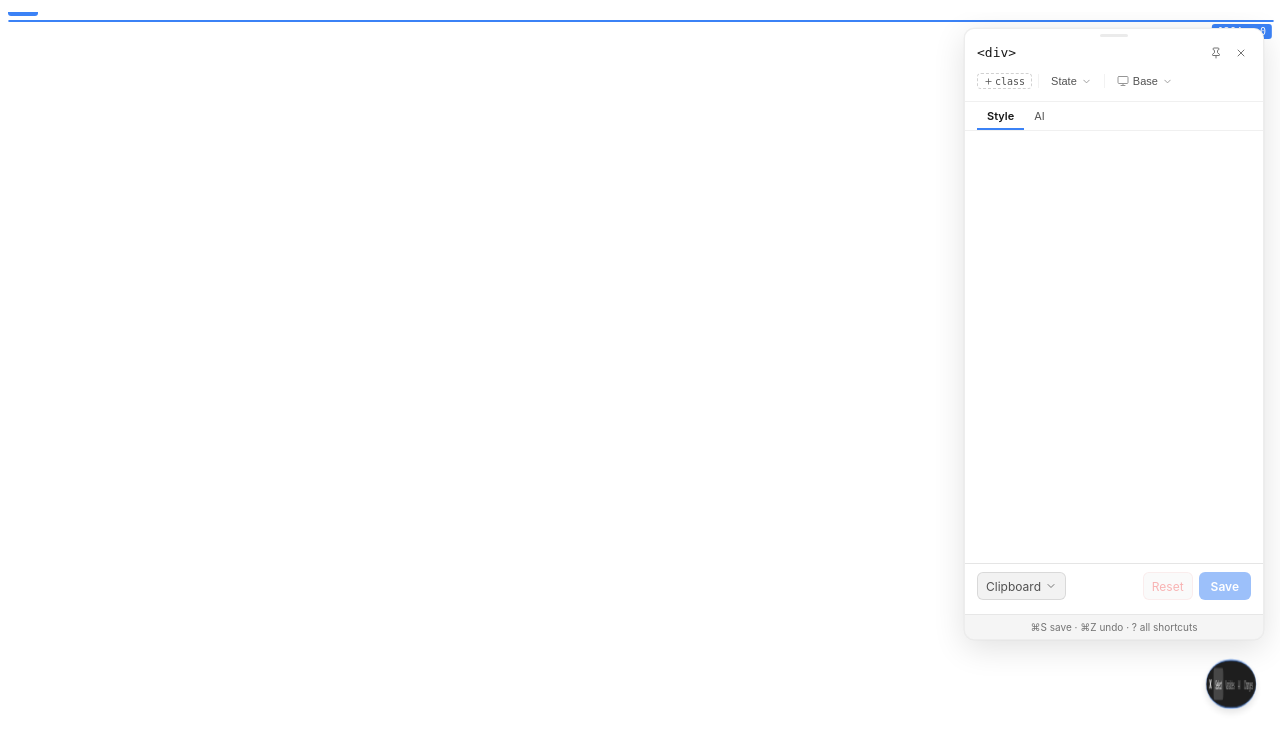
Scenario: class creation UI (audit 05-class-creation) › rejects an invalid CSS identifier with a visible error and no attach
Click the button with aria-label "Add class": (1005, 81) [977,73,1032,89]
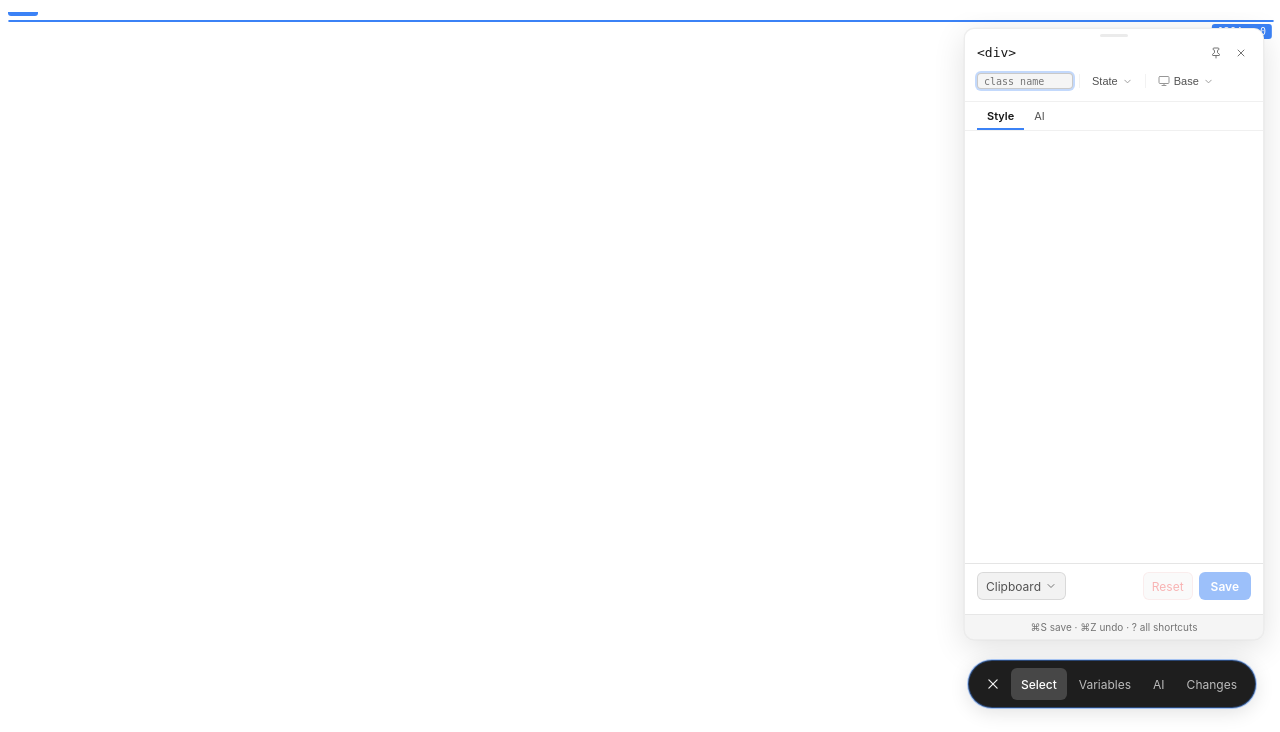
Now the field named "New class name" is shown
In the field named "New class name": (1025, 81) [977,73,1073,89], type "1bad"
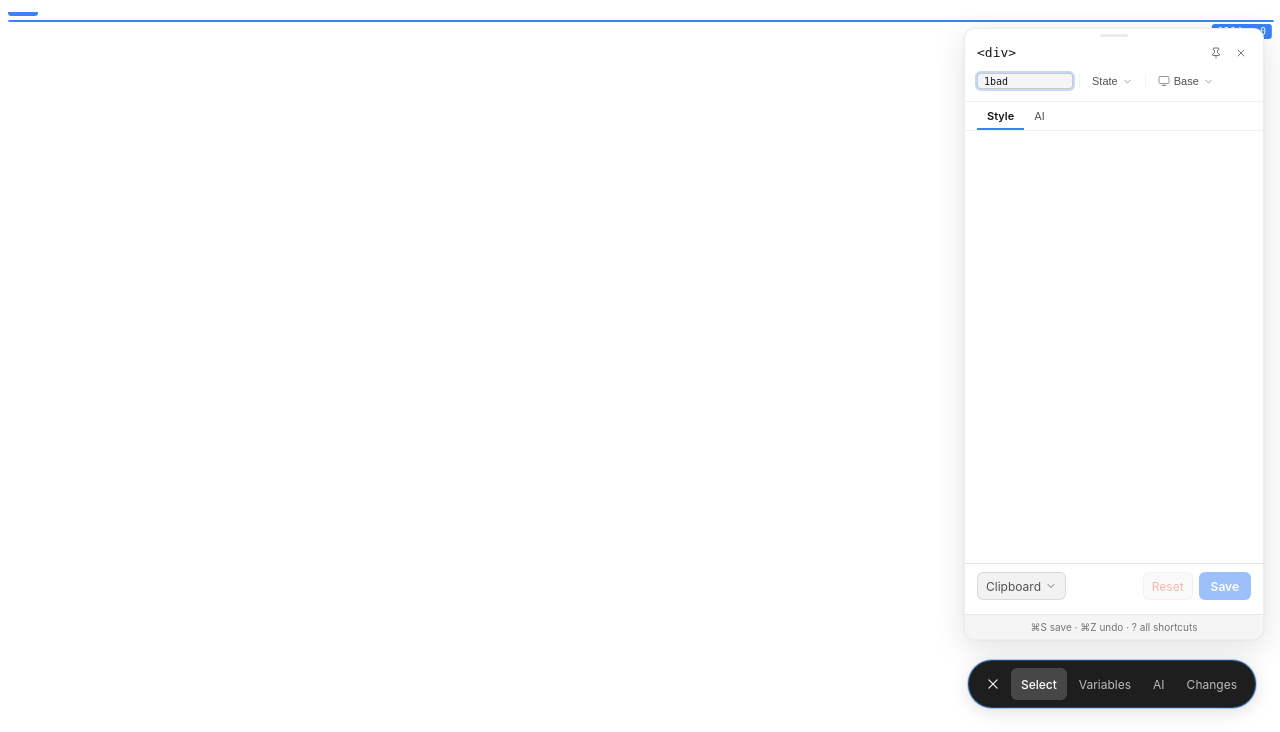
Press Enter in the field named "New class name", box [977,73,1073,89]
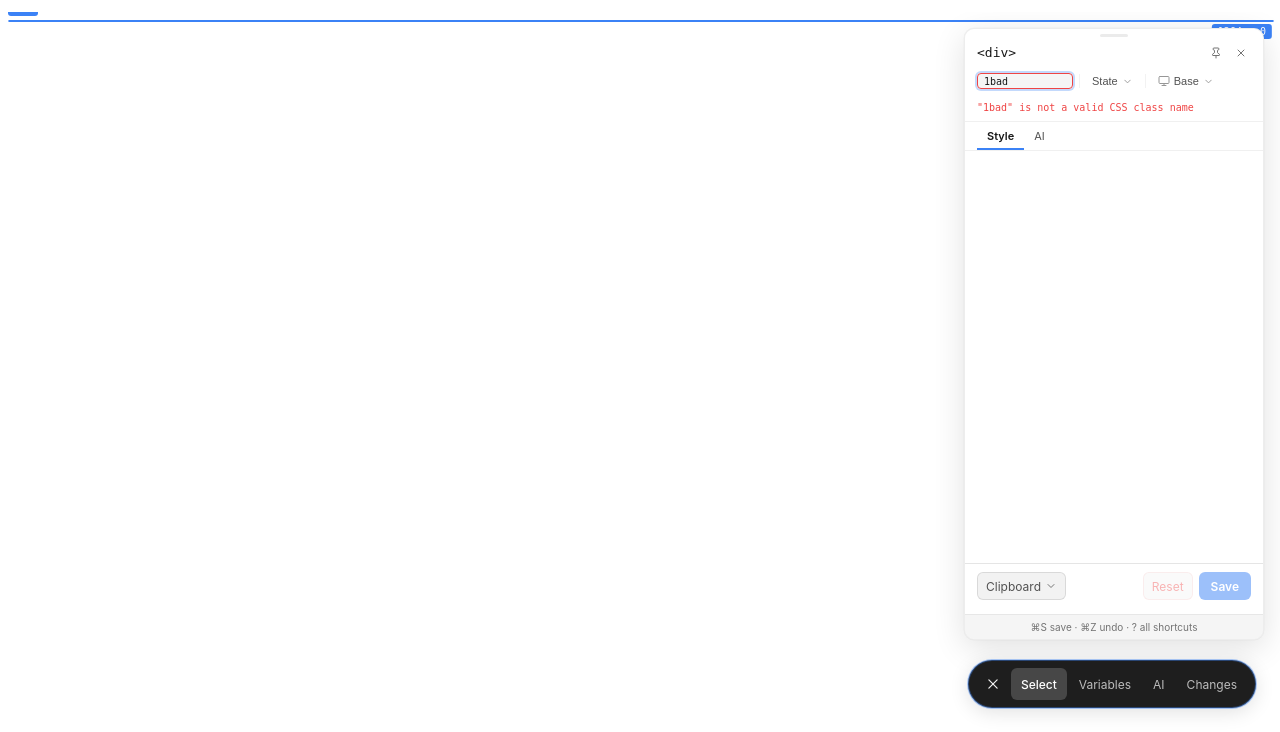
Now the message "\"1bad\" is not a valid CSS class name" is shown, box [977,102,1194,113]
